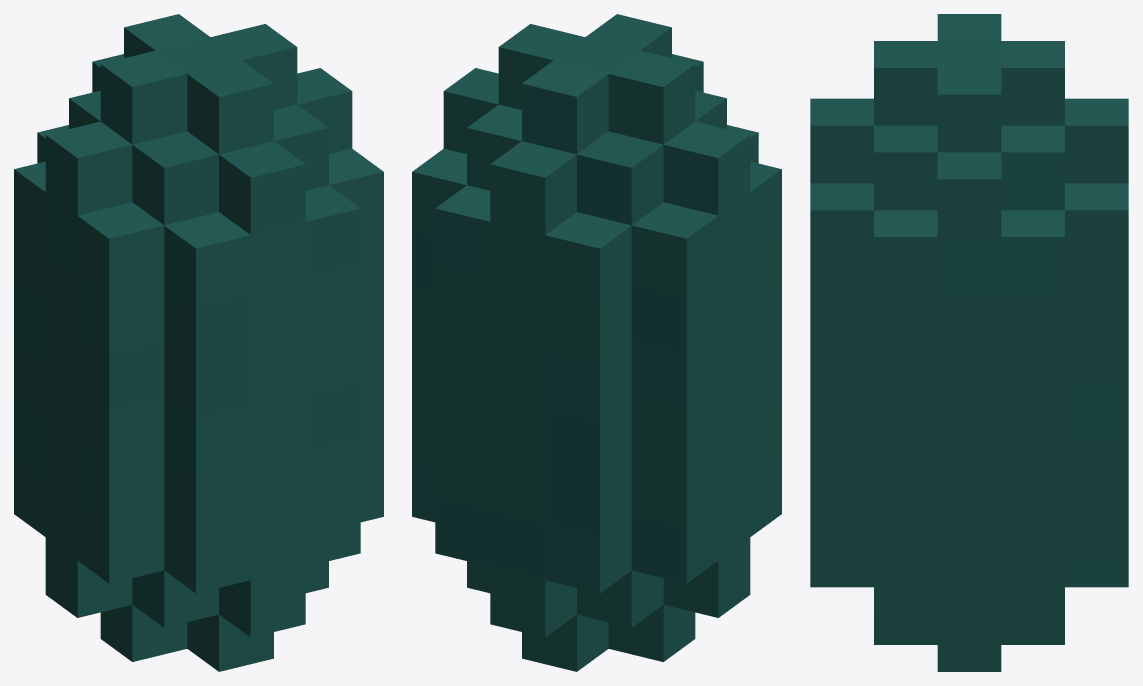
File: flowertop2.fbx
3 renders of one model, left to right at view 1: azimuth 30°, elevation 25°; view 2: azimuth 150°, elevation 25°; view 3: azimuth 270°, elevation 25°, orthographic.
Visible parts, largest first — view 1: Sphere_3; view 2: Sphere_3; view 3: Sphere_3.
Boxes of the visible parts, bbox=[...] form: Sphere_3: bbox=[14, 14, 383, 671]; Sphere_3: bbox=[412, 14, 781, 671]; Sphere_3: bbox=[810, 14, 1128, 671].
Size of the model in its own units: 5 by 10 by 5.
Materials: 1 (1 with a texture image).
